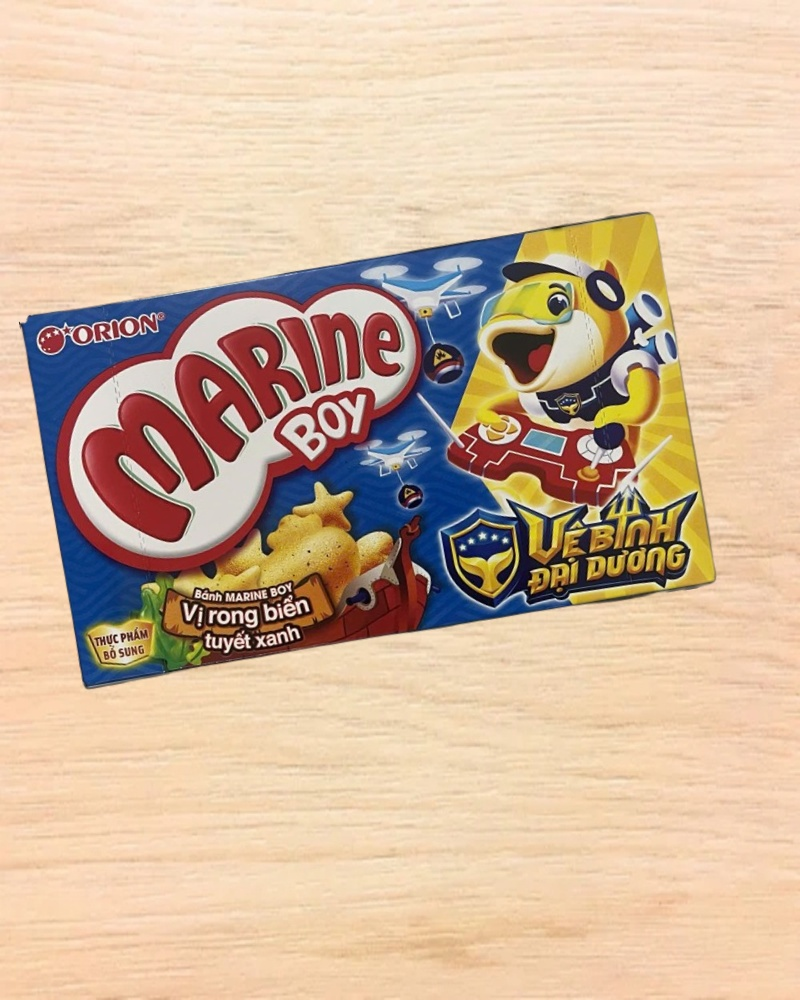Marine: (21, 206, 721, 695)
